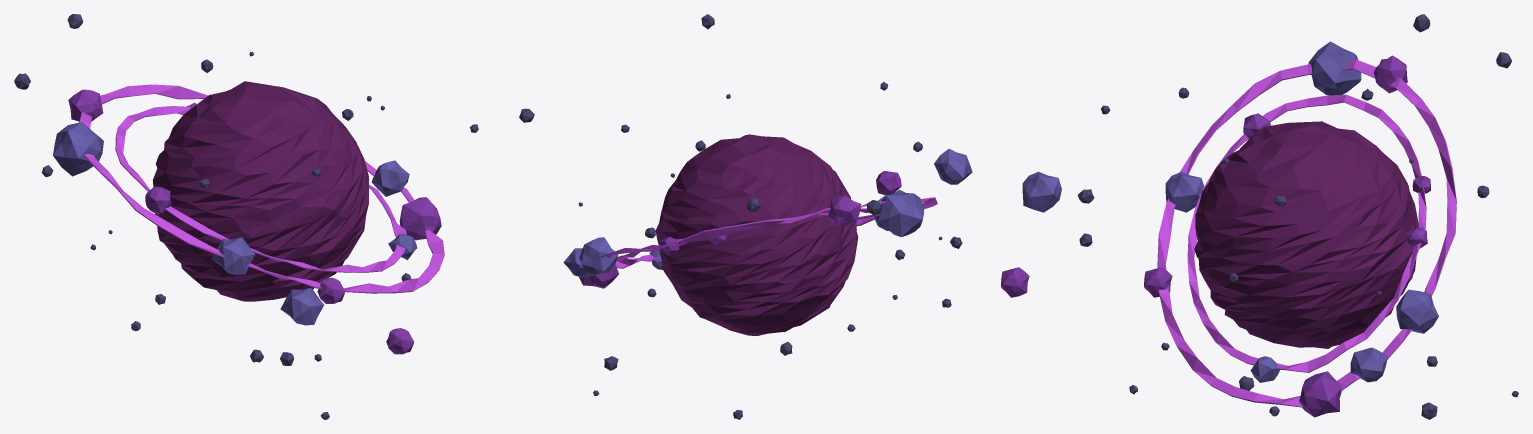
Rendered from VL_Planet.fbx.
3 renders of one model, left to right at view 1: azimuth 30°, elevation 25°; view 2: azimuth 150°, elevation 25°; view 3: azimuth 270°, elevation 25°, orthographic. The views are drawn at different scales.
Parts seen in each view (by area): view 1: VL_Planet, Asteroids_1, Asteroids_3, Asteroid_2, Asteroids_2, Asteroid_1; view 2: VL_Planet, Asteroids_1, Asteroids_3, Asteroid_2, Asteroids_2, Asteroid_1; view 3: VL_Planet, Asteroids_1, Asteroids_3, Asteroids_2, Asteroid_2, Asteroid_1.
Part boxes in pixels (x1,y1,x2,y2): VL_Planet: (79,81,444,301); Asteroids_1: (53,89,441,303); Asteroids_3: (14,14,534,419); Asteroid_2: (280,287,323,325); Asteroids_2: (145,102,417,259); Asteroid_1: (386,328,413,354); VL_Planet: (579,134,937,335); Asteroids_1: (563,189,924,288); Asteroids_3: (578,14,962,419); Asteroid_2: (934,148,972,184); Asteroids_2: (649,228,726,269); Asteroid_1: (876,171,901,195); VL_Planet: (1157,59,1456,407); Asteroids_1: (1144,41,1438,417); Asteroids_3: (1077,14,1518,419); Asteroids_2: (1243,113,1430,382); Asteroid_2: (1022,171,1061,212); Asteroid_1: (1001,267,1029,297).
Bounding box in the file's own units: 2026 × 1489 × 2301.
1 material, 1 textured.
